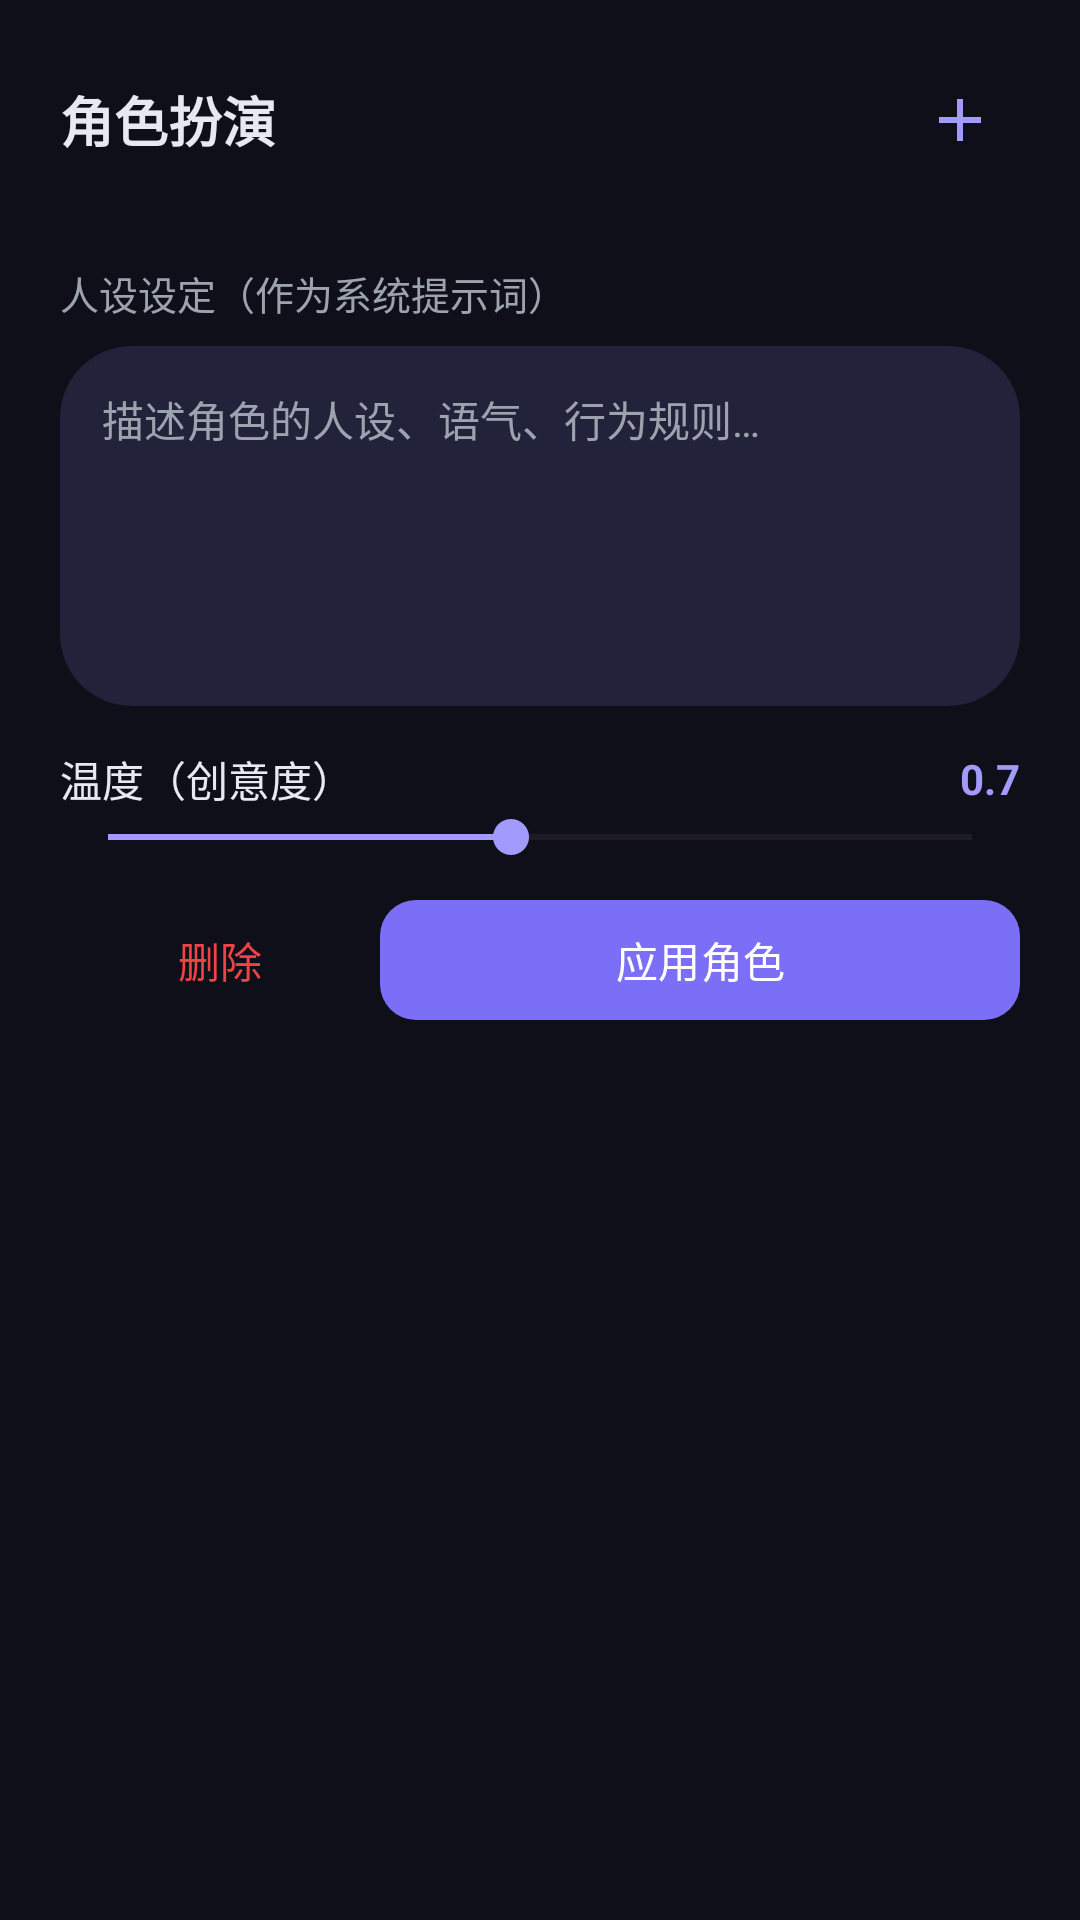

Screen size 1080 × 1920. Icon name, then its center in pixels as [x,y]:
新建角色: [960,120]
